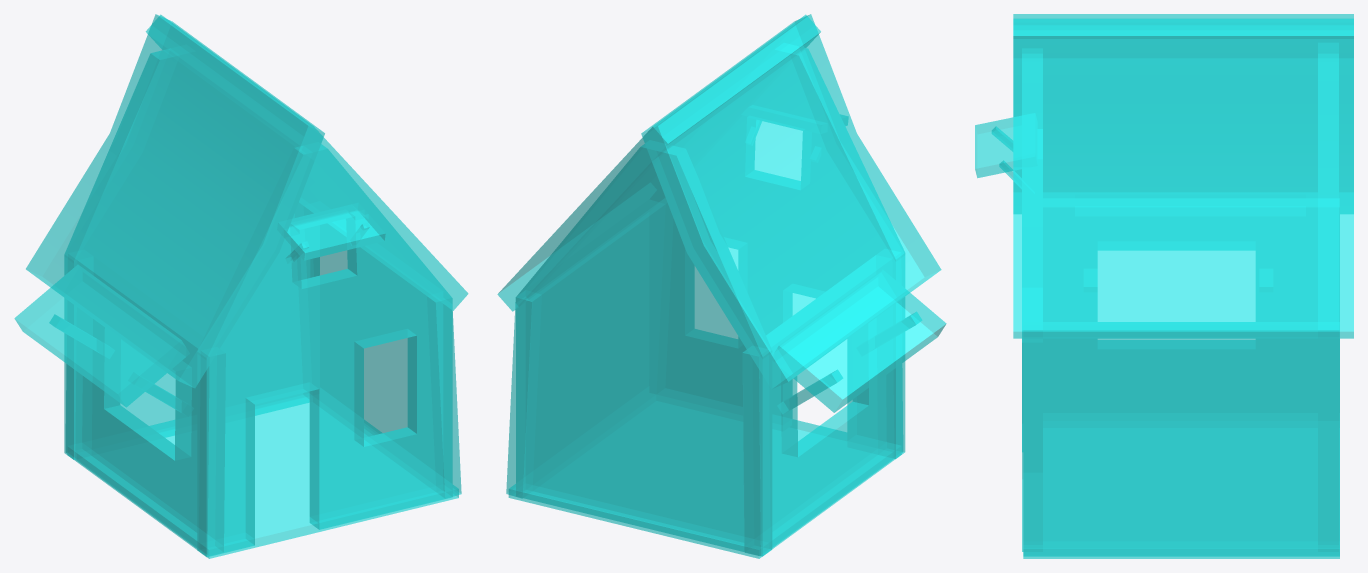
File: SM_Bld_Shack_01_Collision.fbx
The picture shows the model from 3 angles, left to right: view 1: azimuth 30°, elevation 25°; view 2: azimuth 150°, elevation 25°; view 3: azimuth 270°, elevation 25°; orthographic projection. The views are drawn at different scales.
Parts seen in each view (by area): view 1: SM_Bld_Shack_01_Collision; view 2: SM_Bld_Shack_01_Collision; view 3: SM_Bld_Shack_01_Collision.
Part boxes in pixels (bbox=[...]): SM_Bld_Shack_01_Collision: bbox=[14, 14, 468, 558]; SM_Bld_Shack_01_Collision: bbox=[497, 14, 946, 558]; SM_Bld_Shack_01_Collision: bbox=[975, 14, 1353, 558].
Bounding box in the file's own units: 489 × 598 × 446.
